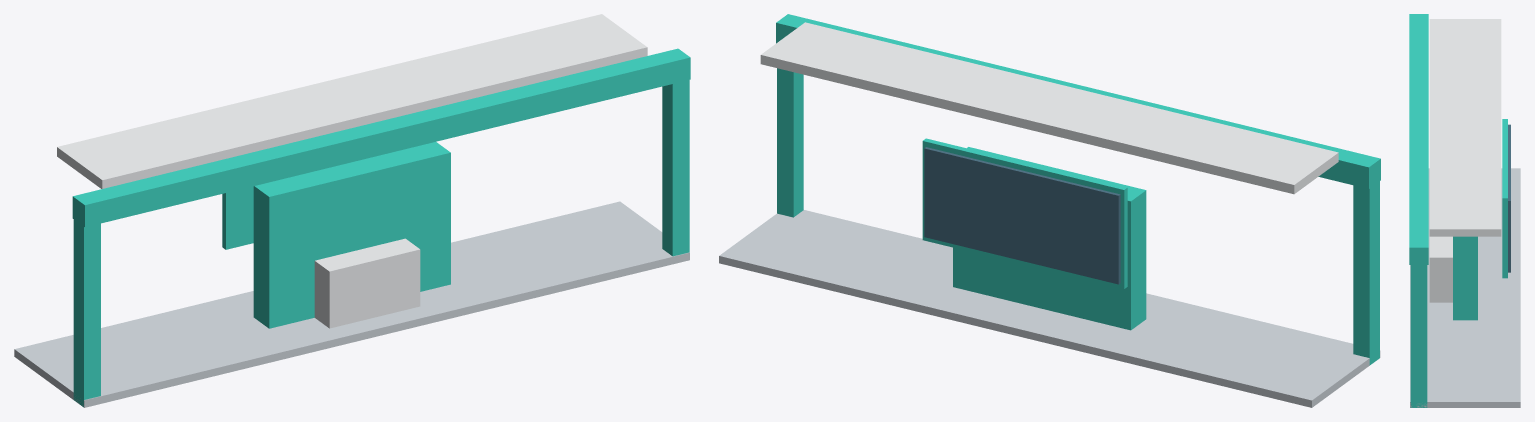
The picture shows the model from 3 angles, left to right: view 1: azimuth 30°, elevation 25°; view 2: azimuth 150°, elevation 25°; view 3: azimuth 270°, elevation 25°; orthographic projection. The views are drawn at different scales.
Visible parts, largest first — view 1: Exhibition Booth Concept; view 2: Exhibition Booth Concept; view 3: Exhibition Booth Concept.
Boxes of the visible parts, x1=… form: Exhibition Booth Concept: x1=14, y1=14, x2=690, y2=407; Exhibition Booth Concept: x1=719, y1=14, x2=1380, y2=407; Exhibition Booth Concept: x1=1409, y1=14, x2=1520, y2=407.
Size of the model in its own units: 10 by 3.34 by 2.01.
